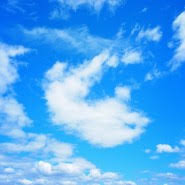sky: (1, 2, 183, 185)
